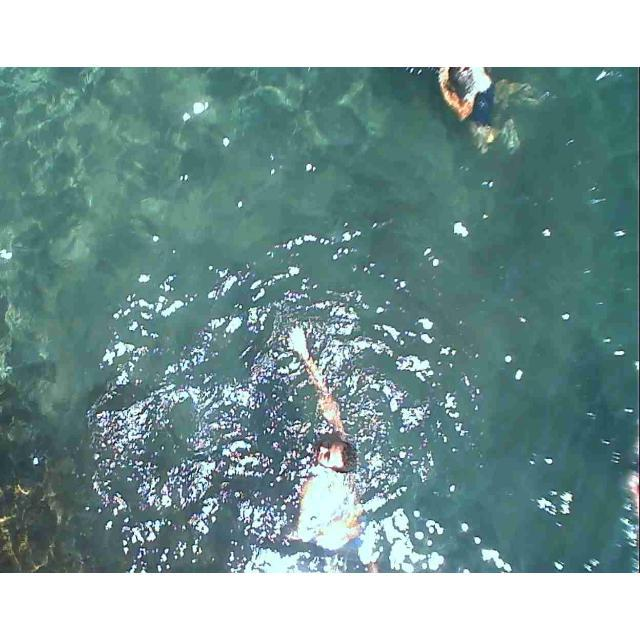human: (285, 317, 366, 561), (417, 67, 541, 163)
